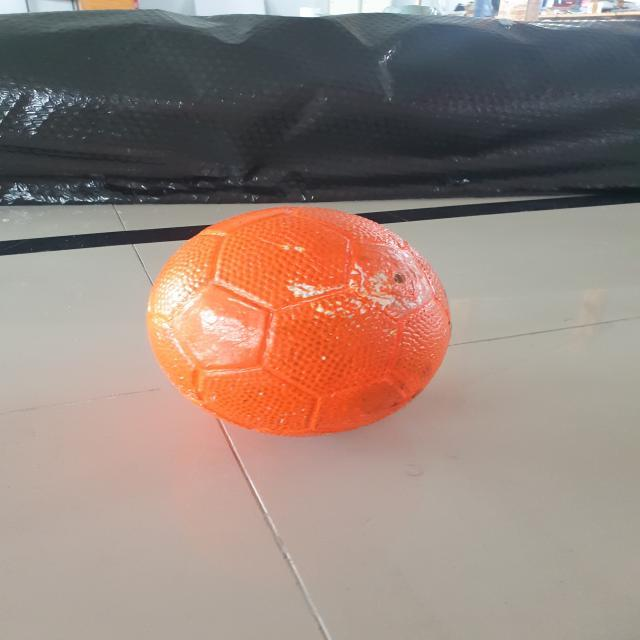bola: (143, 205, 451, 440)
